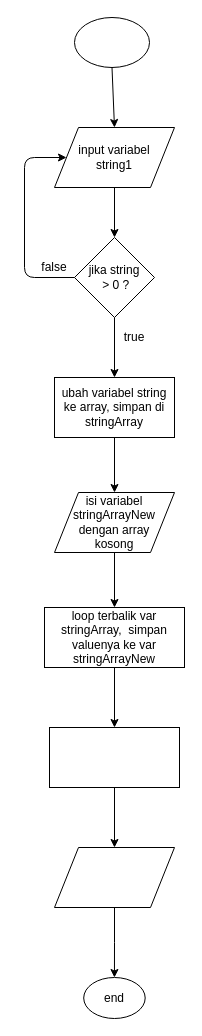
Image size: 202x1036. Some labels were removed from this diagram. Here are the shapes that lost their labels. From the top down, the centre of each, then its label:
point (112, 42): start
point (114, 757): ubah stringArrayNew dari array ke string, simpan di variabel string2
point (114, 877): cetak variabel string2
